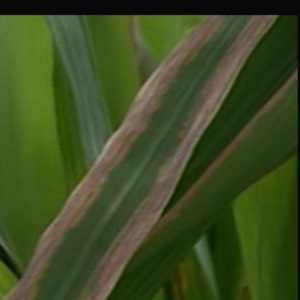Leaf_Blast: (13, 127, 154, 300)
